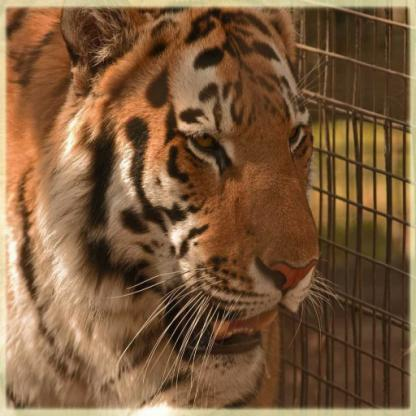Tiger: (4, 5, 360, 408)
